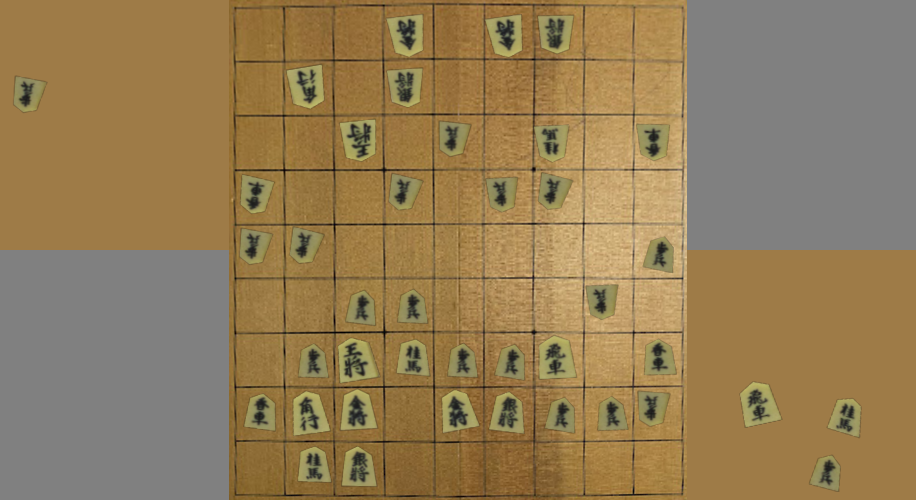A: (339, 339, 378, 382), (539, 337, 576, 379), (442, 391, 478, 432), (294, 393, 329, 435), (341, 391, 376, 430), (490, 393, 523, 433), (343, 449, 375, 486), (397, 341, 429, 376), (298, 448, 330, 482), (645, 340, 676, 374), (245, 395, 274, 430), (645, 237, 673, 272), (496, 346, 524, 380), (546, 399, 574, 432), (299, 345, 327, 377), (399, 291, 427, 323), (449, 345, 477, 377), (599, 398, 627, 430), (348, 292, 374, 325)
B: (486, 15, 522, 56), (288, 66, 323, 108), (388, 15, 423, 56), (341, 120, 375, 161), (388, 70, 422, 106), (539, 16, 572, 53), (241, 175, 273, 213), (535, 125, 568, 161), (240, 229, 271, 264), (540, 174, 571, 209), (638, 125, 669, 160), (391, 174, 421, 210), (291, 229, 322, 263), (638, 392, 669, 425), (587, 286, 617, 319), (441, 122, 470, 156), (487, 179, 516, 211)
C: (740, 383, 780, 427), (828, 399, 860, 437), (809, 455, 841, 492)
D: (15, 77, 46, 112)
